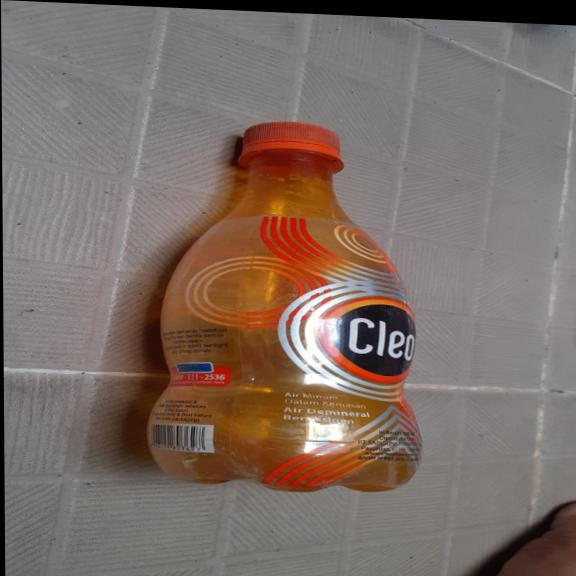Plastik: (129, 114, 428, 499)
